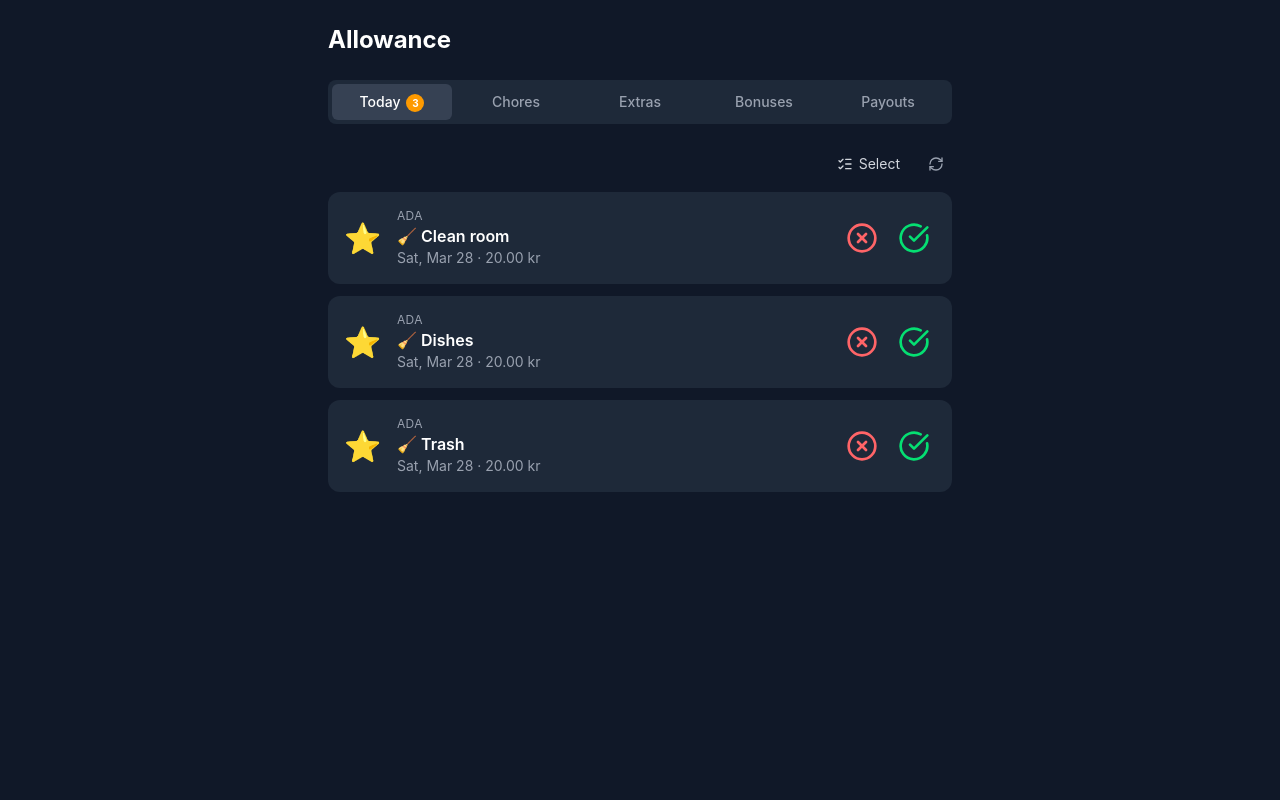
Test case: AllowancePage bulk approval › approves the selection with a single batch request
Expected: the text "🧹 Clean room" is shown, [397,226,510,246]
Click the button "Select": x=868, y=164 [825,148,912,180]
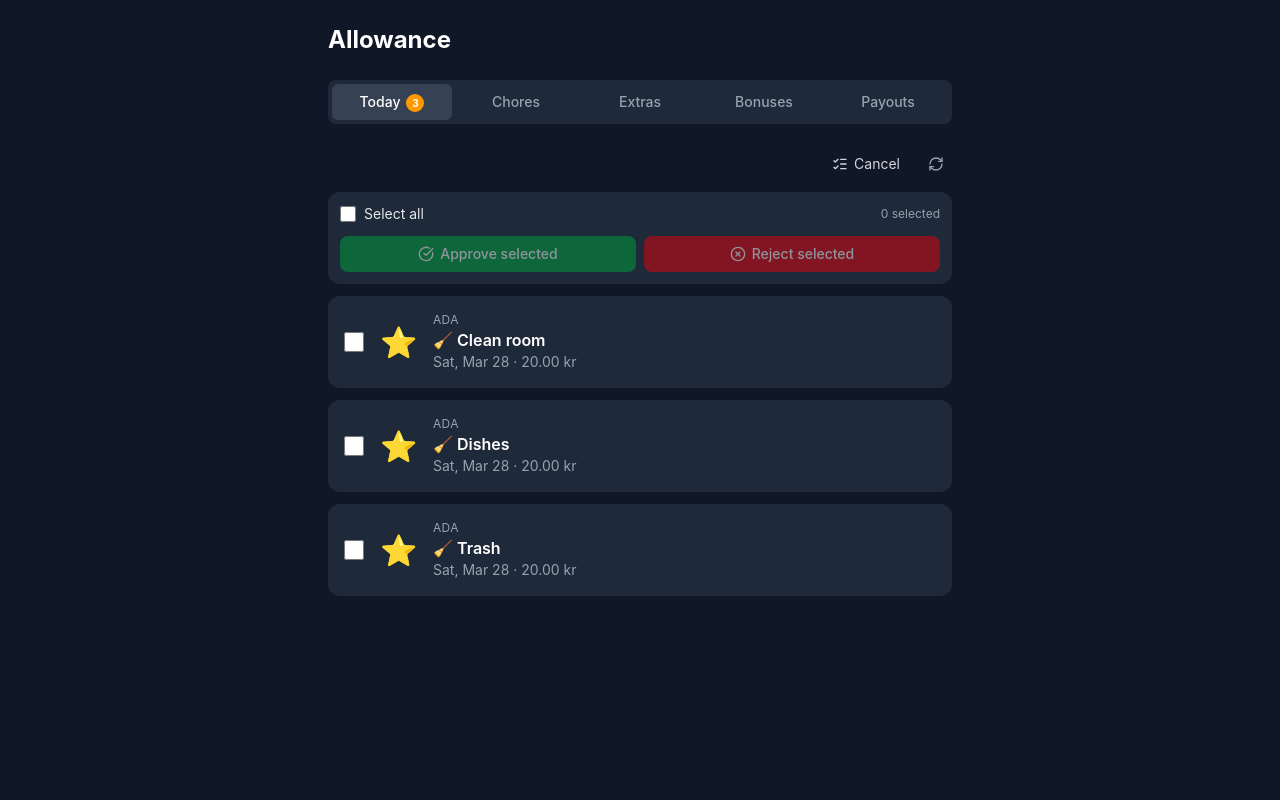
Click the checkbox labelled "Select all": x=348, y=214 [340,206,356,222]
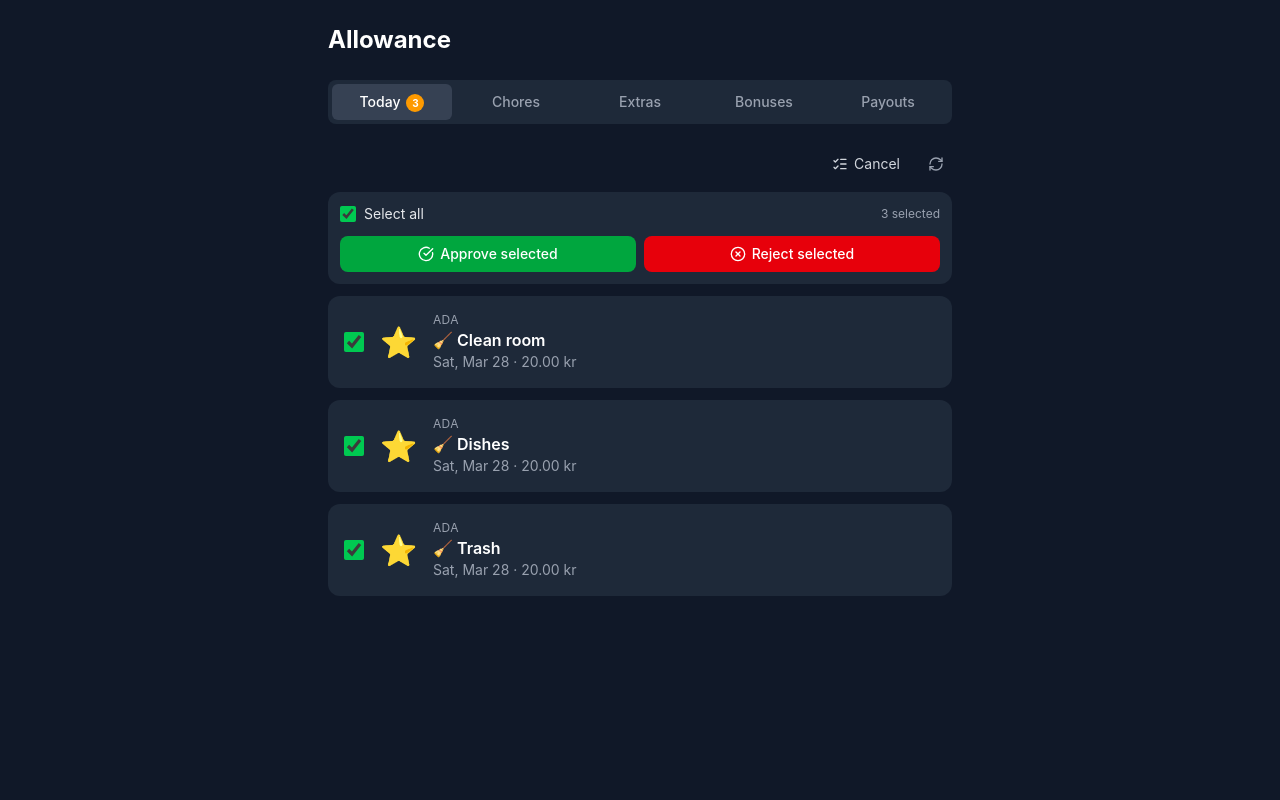
Click the button "Approve selected": x=488, y=254 [340,236,636,272]
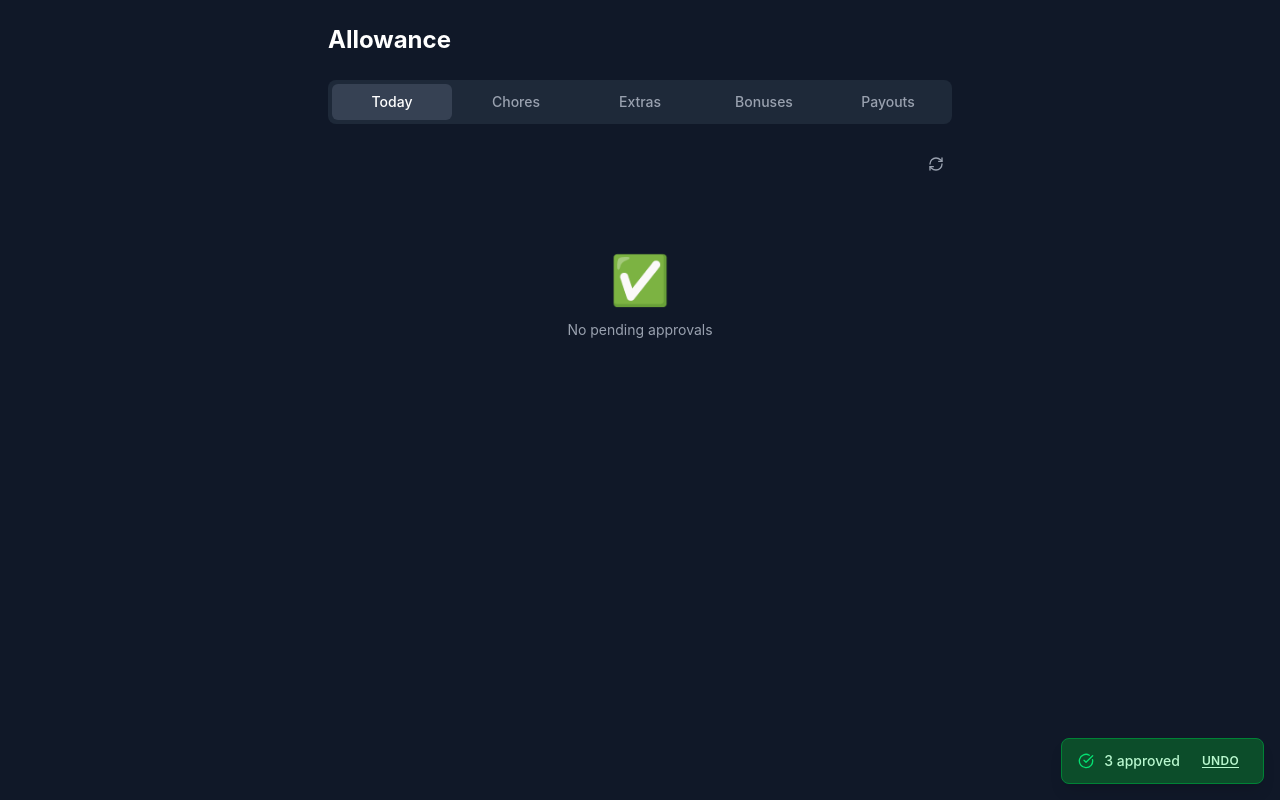
Now the text "3 approved" is shown, box [1104,752,1180,769]
Now the text "Clean room" is gone
Now the text "No pending approvals" is shown, box [567,321,713,338]
